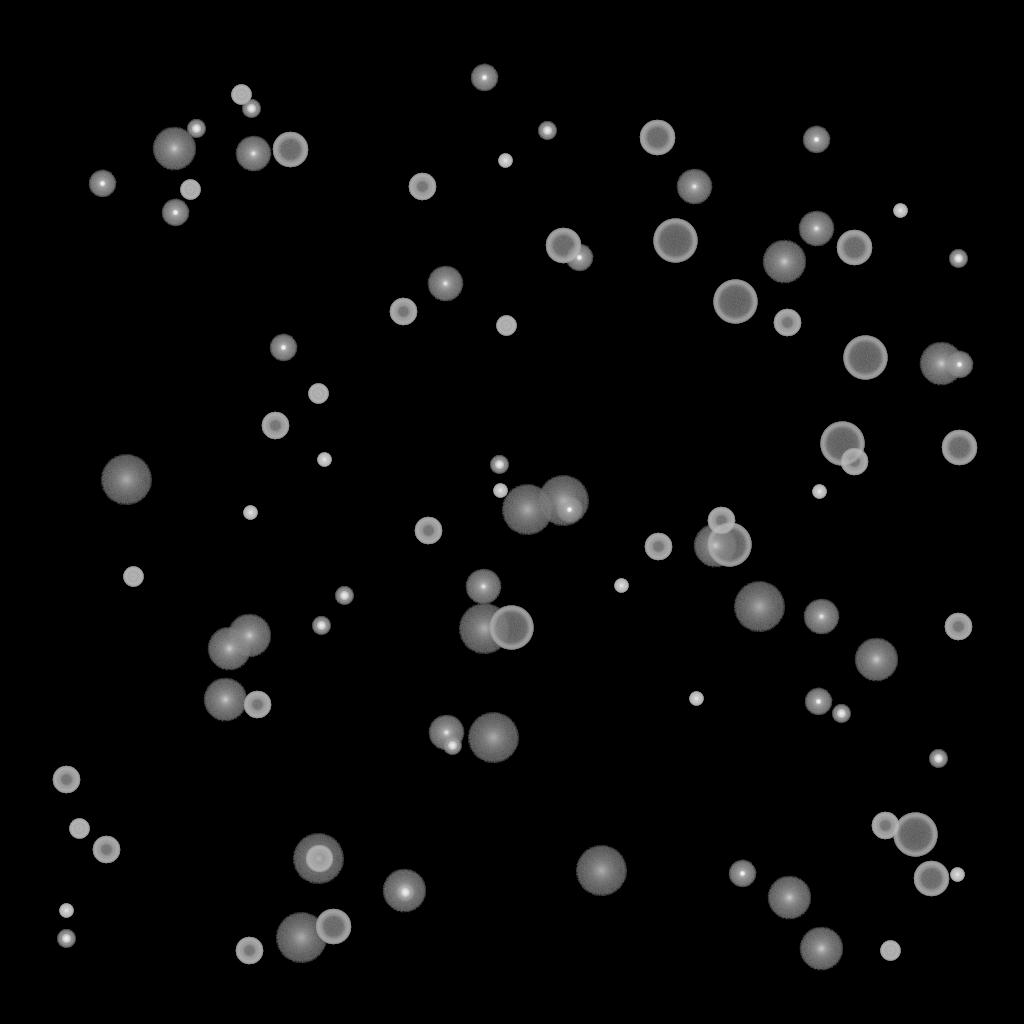depth:-10: (565, 244, 593, 272), (802, 126, 830, 154), (555, 496, 583, 524), (88, 170, 116, 198), (269, 334, 297, 362), (804, 688, 832, 716), (945, 351, 973, 379), (161, 199, 189, 227), (728, 860, 756, 888), (470, 64, 498, 92)
depth:-20: (490, 456, 508, 474), (949, 250, 967, 268), (832, 705, 850, 723), (396, 884, 414, 902), (242, 100, 260, 118), (335, 587, 353, 605), (443, 737, 461, 755), (187, 120, 205, 138), (538, 122, 556, 140), (929, 750, 947, 768), (312, 617, 330, 635), (57, 930, 75, 948)
depth:-30: (243, 506, 257, 520), (498, 154, 512, 168), (614, 579, 628, 593), (812, 485, 826, 499), (317, 453, 331, 467), (59, 904, 73, 918), (893, 204, 907, 218), (950, 868, 964, 882), (689, 692, 703, 706), (493, 484, 507, 498)
depth:-40: (880, 941, 900, 961), (231, 85, 251, 105), (496, 316, 516, 336), (180, 180, 200, 200), (123, 567, 143, 587), (308, 384, 328, 404), (69, 819, 89, 839)
depth:-50: (305, 845, 333, 873), (414, 517, 442, 545), (944, 613, 972, 641), (52, 766, 80, 794), (707, 507, 735, 535), (840, 448, 868, 476), (871, 812, 899, 840), (773, 309, 801, 337), (644, 533, 672, 561), (92, 836, 120, 864), (389, 298, 417, 326), (408, 173, 436, 201), (235, 937, 263, 965), (243, 691, 271, 719), (261, 412, 289, 440)
depth:-60: (913, 861, 949, 897), (545, 228, 581, 264), (315, 909, 351, 945), (639, 120, 675, 156), (941, 430, 977, 466), (836, 230, 872, 266), (272, 132, 308, 168)
depth:-70: (653, 219, 697, 263), (843, 336, 887, 380), (820, 422, 864, 466), (489, 606, 533, 650), (713, 280, 757, 324), (707, 523, 751, 567), (893, 813, 937, 857)
depth:0: (427, 266, 463, 302), (428, 715, 464, 751), (465, 569, 501, 605), (798, 211, 834, 247), (676, 169, 712, 205), (235, 136, 271, 172), (803, 599, 839, 635)
depth:10: (227, 614, 271, 658), (767, 876, 811, 920), (207, 627, 251, 671), (799, 927, 843, 971), (693, 524, 737, 568), (854, 638, 898, 682), (203, 678, 247, 722), (762, 240, 806, 284), (919, 342, 963, 386), (382, 869, 426, 913), (152, 127, 196, 171)
depth:20: (100, 455, 152, 505), (537, 476, 589, 526), (575, 846, 627, 896), (458, 604, 510, 654), (292, 834, 344, 884), (275, 913, 327, 963), (733, 582, 785, 632), (501, 485, 553, 535), (467, 713, 519, 763)
